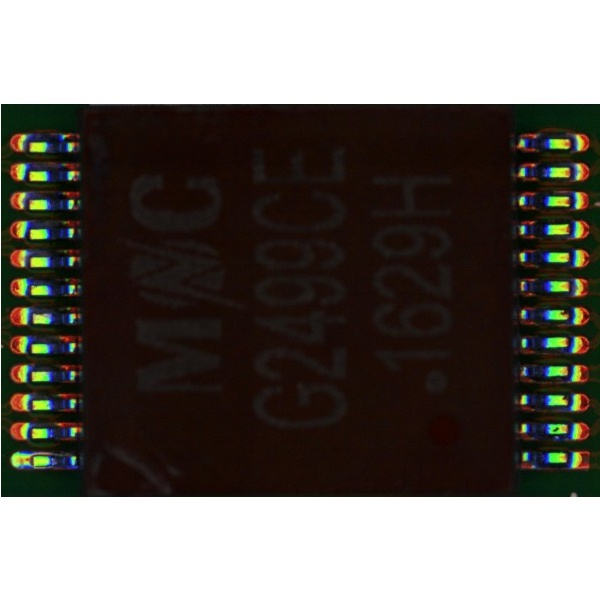Bad_podu: (22, 457, 38, 465)
Bad_qiaojiao: (31, 452, 67, 456)
